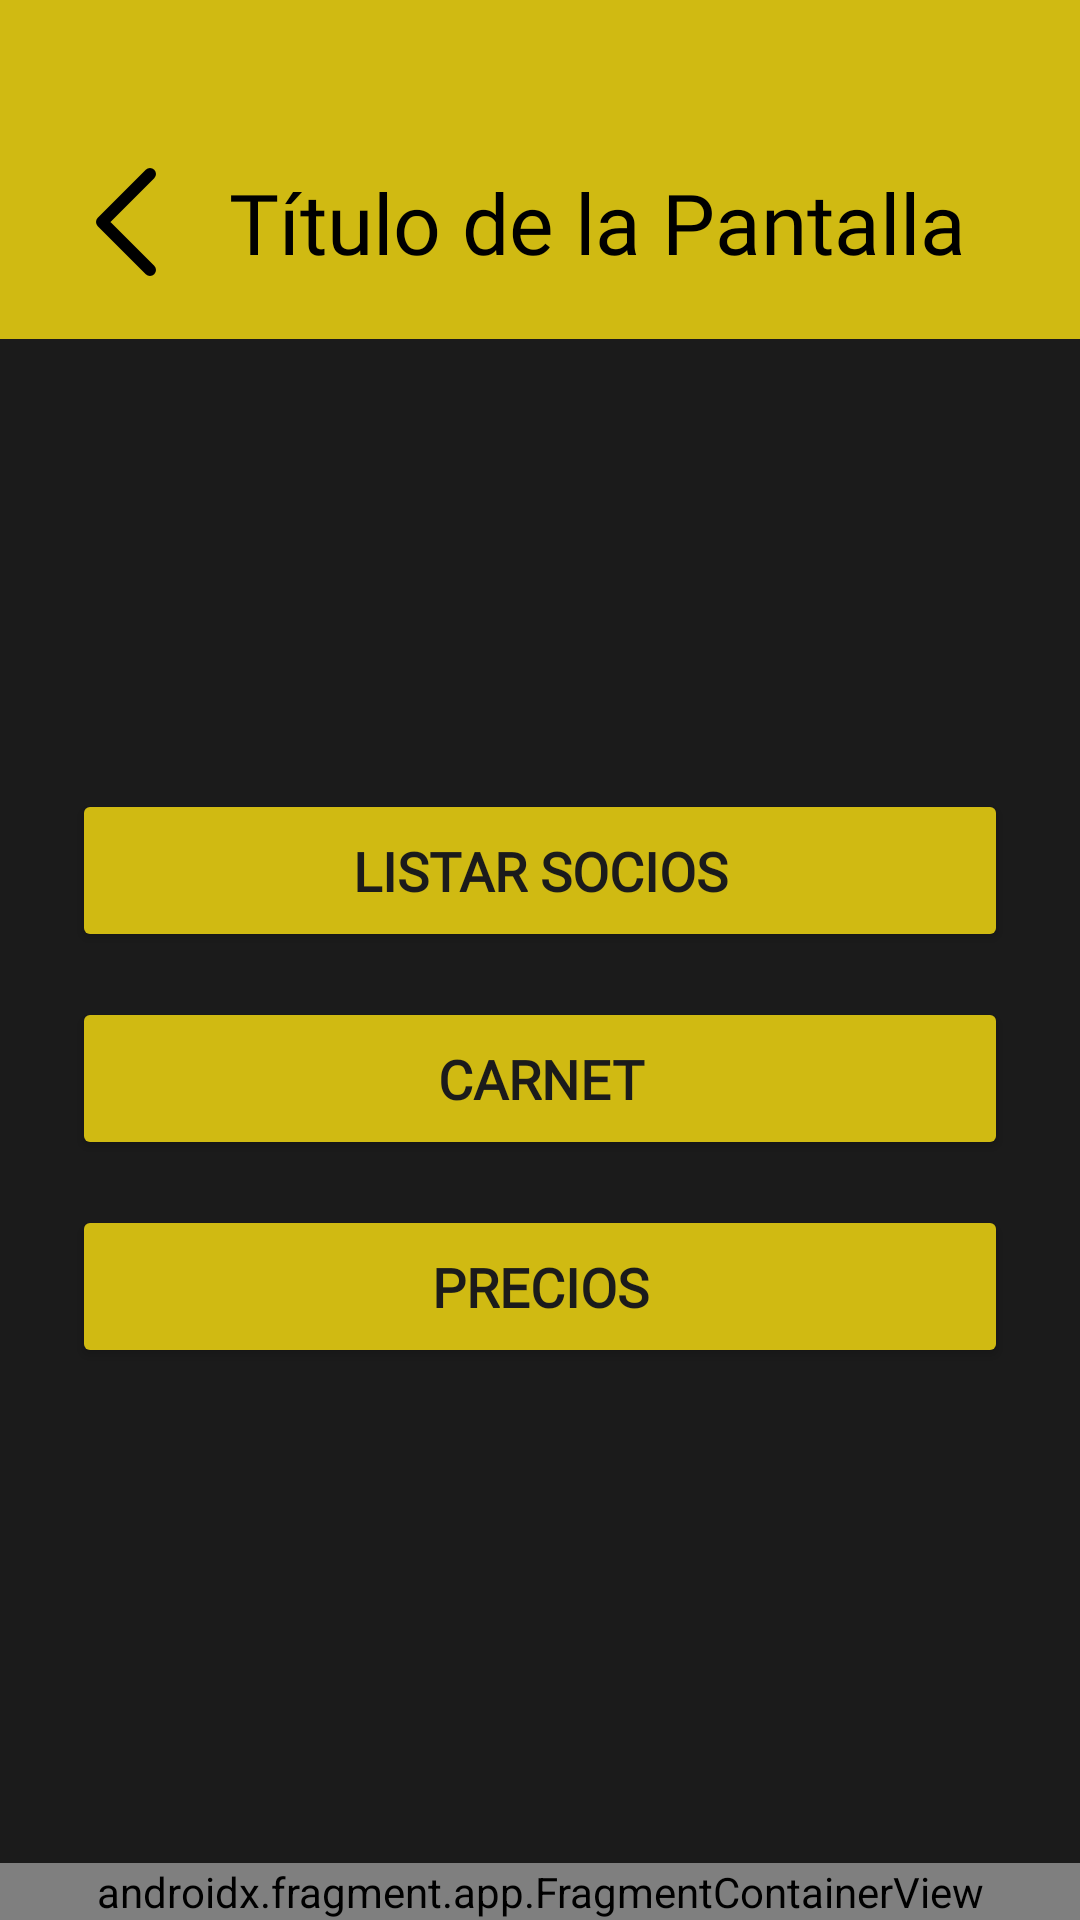

Screen size 1080w x 1920h. Icon name, then its box in pixels as bbox=(x1, y1, x2, y2):
atras: bbox=(96, 168, 156, 276)
